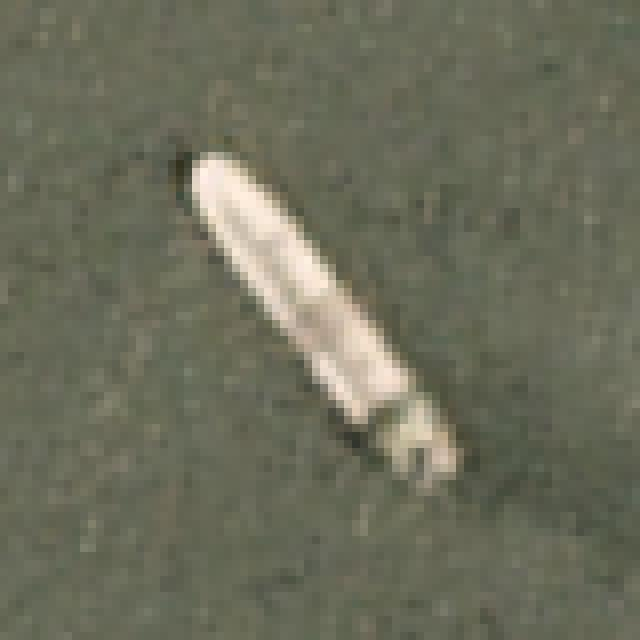ship: (136, 106, 519, 534)
